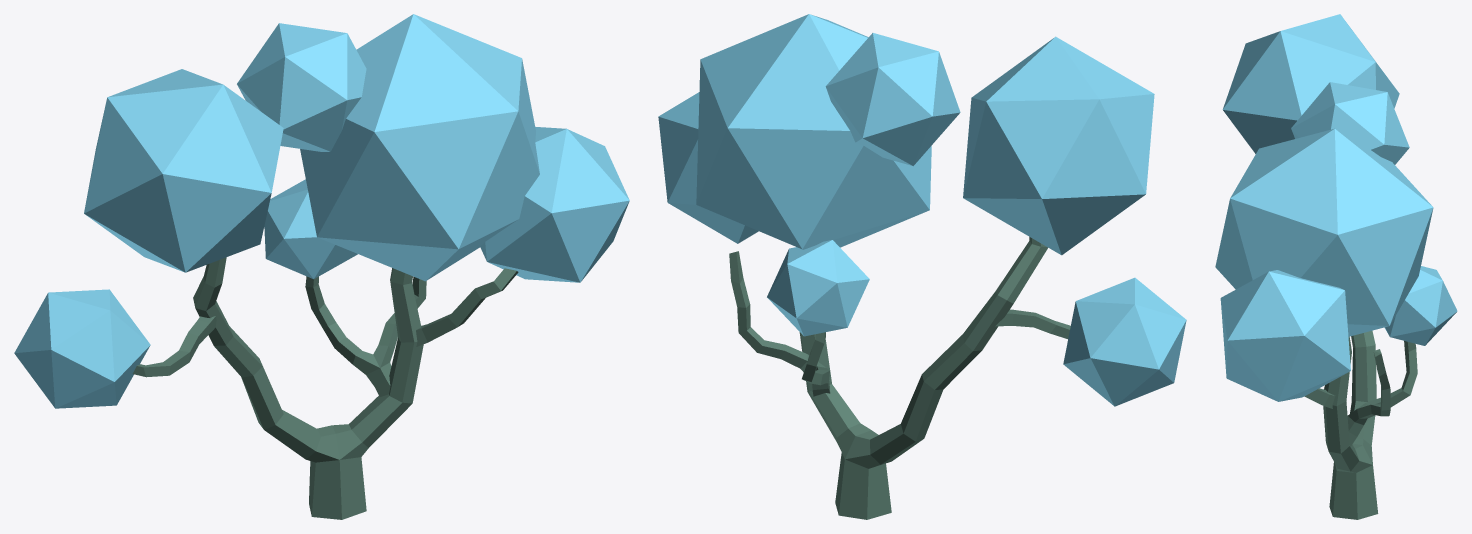
Rendered from Yggdrasil_pequeño.fbx.
3 renders of one model, left to right at view 1: azimuth 30°, elevation 25°; view 2: azimuth 150°, elevation 25°; view 3: azimuth 270°, elevation 25°, orthographic. The views are drawn at different scales.
Visible parts, largest first — view 1: Yggdrasil_pequeño; view 2: Yggdrasil_pequeño; view 3: Yggdrasil_pequeño.
Boxes of the visible parts, x1,y1,x2,y2 form: Yggdrasil_pequeño: (14, 14, 629, 519); Yggdrasil_pequeño: (658, 14, 1186, 519); Yggdrasil_pequeño: (1215, 14, 1457, 519).
Bounding box in the file's own units: 305 × 260 × 137.
